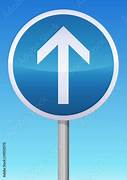forward: (8, 8, 119, 119)
